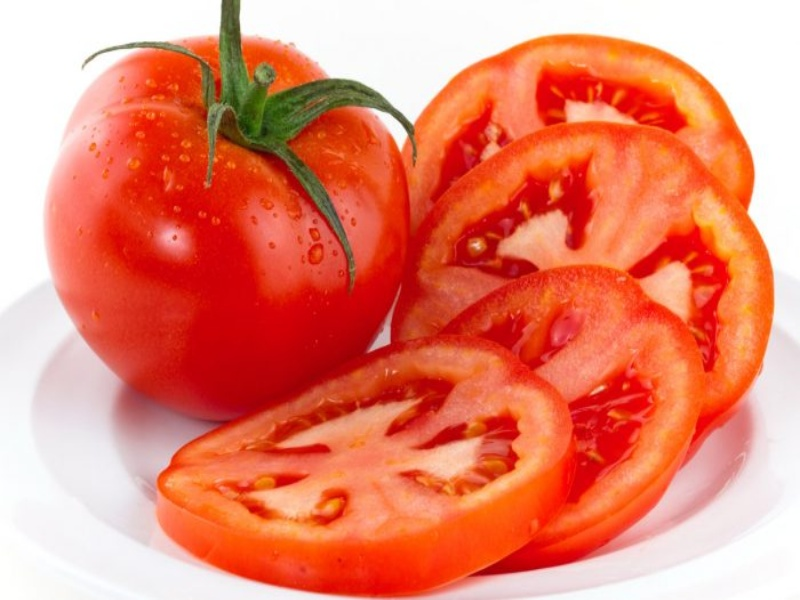Tomate: (37, 18, 412, 423)
